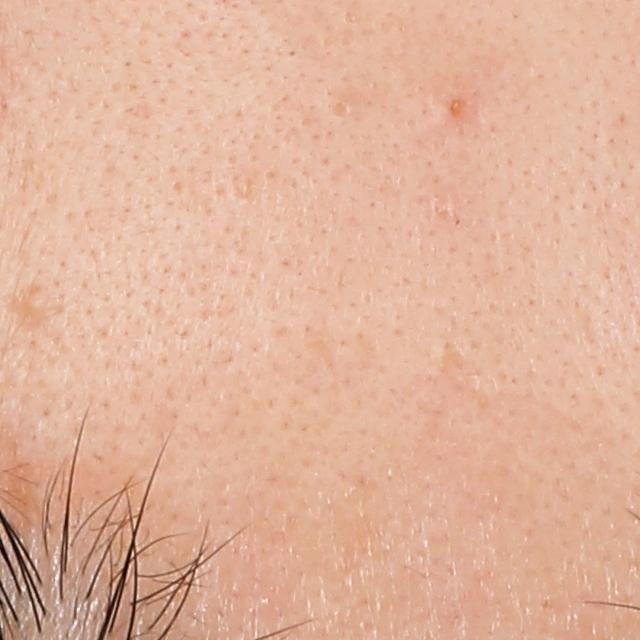comedo: (13, 284, 58, 327)
